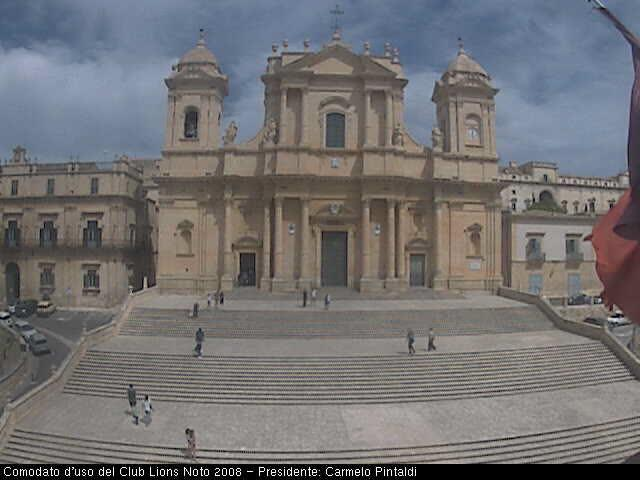person: (126, 383, 139, 424), (184, 425, 197, 463), (141, 395, 152, 427), (193, 328, 204, 358), (406, 328, 416, 357), (427, 328, 437, 353), (205, 292, 214, 309), (192, 300, 200, 319), (240, 271, 247, 289), (302, 287, 308, 308), (324, 293, 331, 311), (213, 290, 220, 305), (220, 291, 226, 306)
